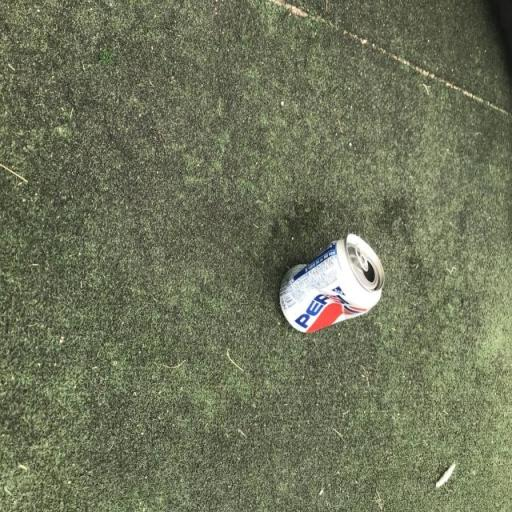metal: (245, 212, 427, 381)
